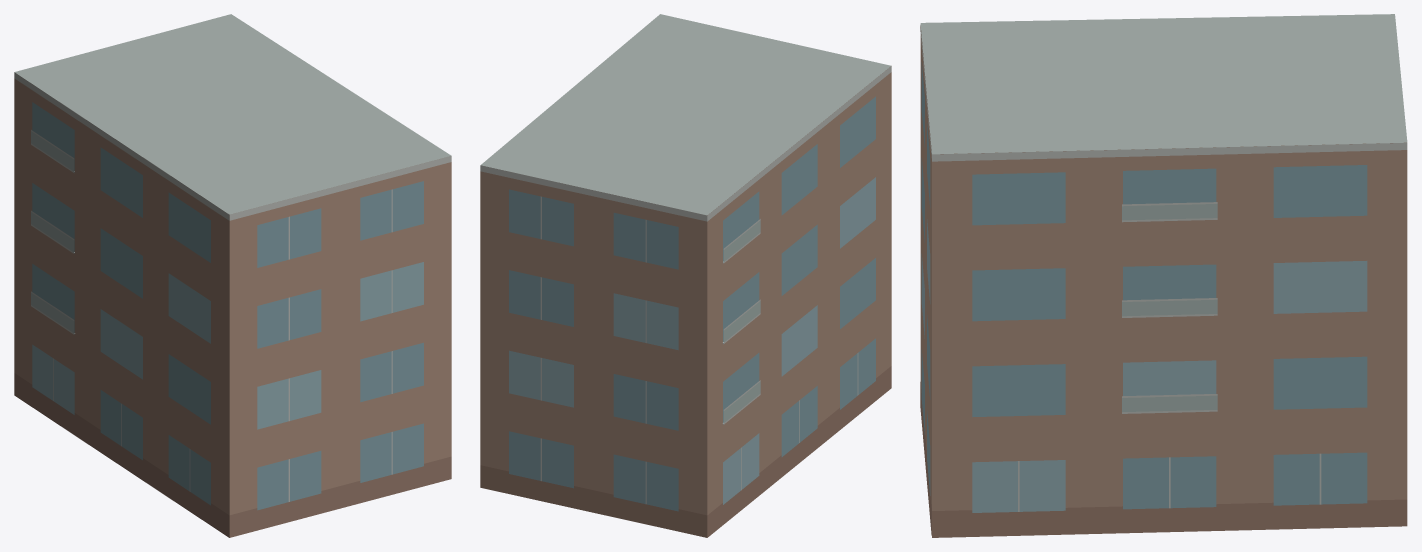
The model's file is survey-upis-32726840.glb.
The picture shows the model from 3 angles, left to right: view 1: azimuth 30°, elevation 25°; view 2: azimuth 150°, elevation 25°; view 3: azimuth 270°, elevation 25°; orthographic projection. The views are drawn at different scales.
Visible parts, largest first — view 1: survey-upis-32726840.tmp; view 2: survey-upis-32726840.tmp; view 3: survey-upis-32726840.tmp.
Boxes of the visible parts, bbox=[...] form: survey-upis-32726840.tmp: bbox=[14, 14, 451, 537]; survey-upis-32726840.tmp: bbox=[480, 14, 891, 537]; survey-upis-32726840.tmp: bbox=[920, 14, 1407, 537].
Size of the model in its own units: 10.05 by 12.8 by 14.74.
